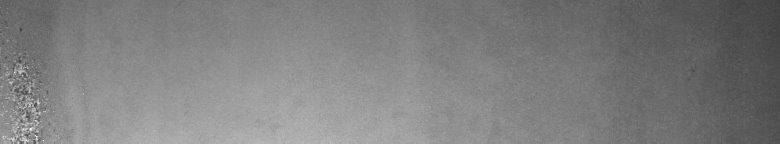hc: (4, 25, 56, 136)
